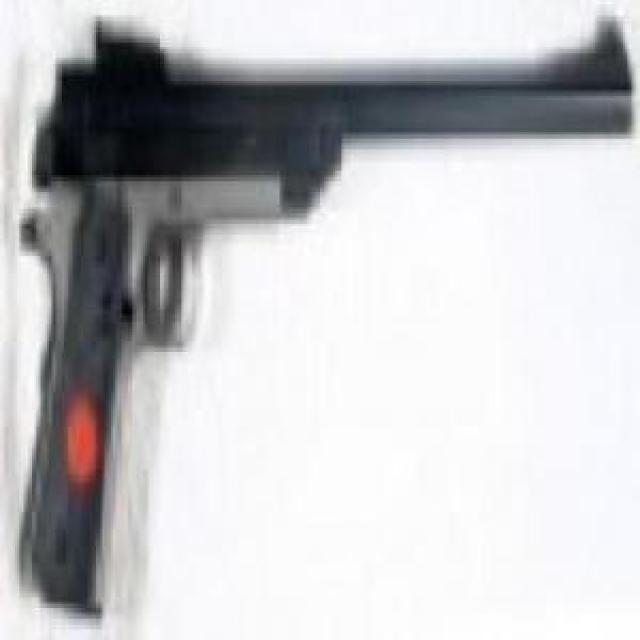pistol: (13, 17, 632, 620)
